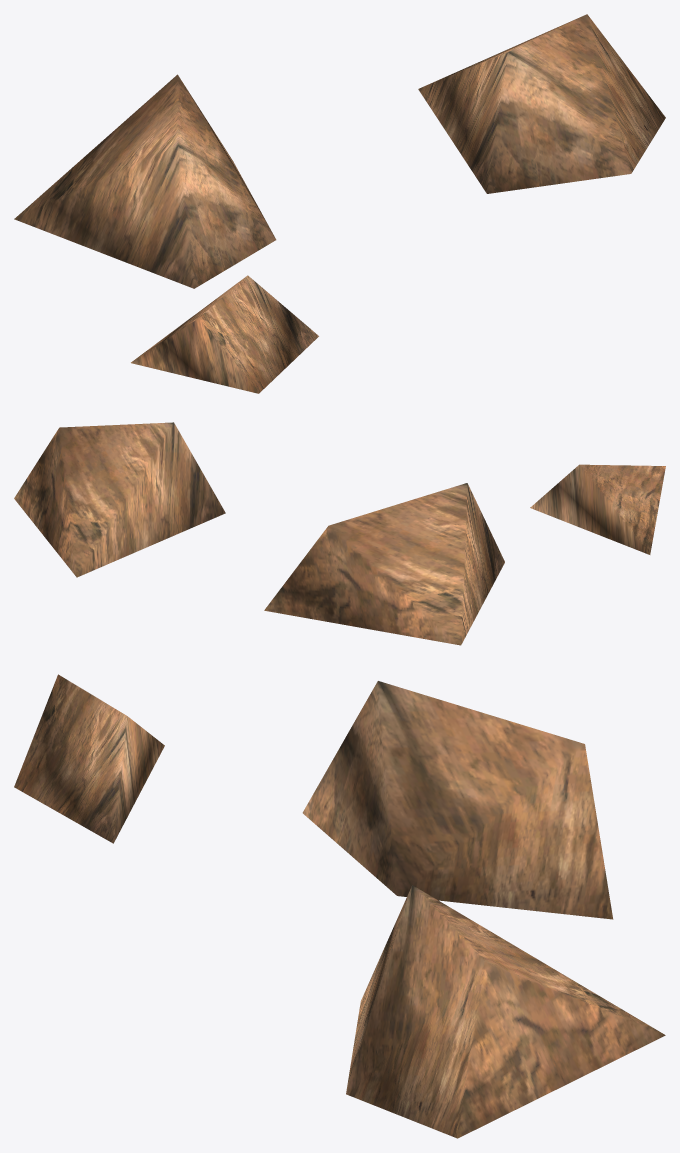
Rendered from rock_tatt_jundland_pebble_a2_l3.fbx.
The picture shows the model from 3 angles, top to bottom: view 1: azimuth 30°, elevation 25°; view 2: azimuth 150°, elevation 25°; view 3: azimuth 270°, elevation 25°; orthographic projection. The views are drawn at different scales.
Visible parts, largest first — view 1: mesh_node; view 2: mesh_node; view 3: mesh_node.
Boxes of the visible parts, box(x1,y1,x2,y2) form: mesh_node: box(14, 14, 665, 393); mesh_node: box(14, 422, 665, 645); mesh_node: box(14, 674, 665, 1138).
Size of the model in its own units: 1.04 by 0.189 by 0.7335.
